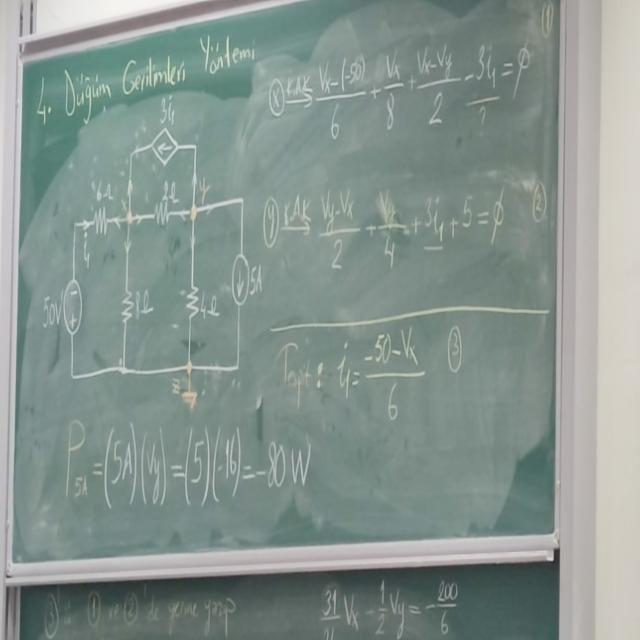image: (34, 61, 266, 411)
math: (60, 414, 316, 517), (310, 39, 532, 134), (311, 178, 509, 272), (312, 571, 463, 640), (336, 333, 434, 430)
text: (26, 15, 267, 154)
